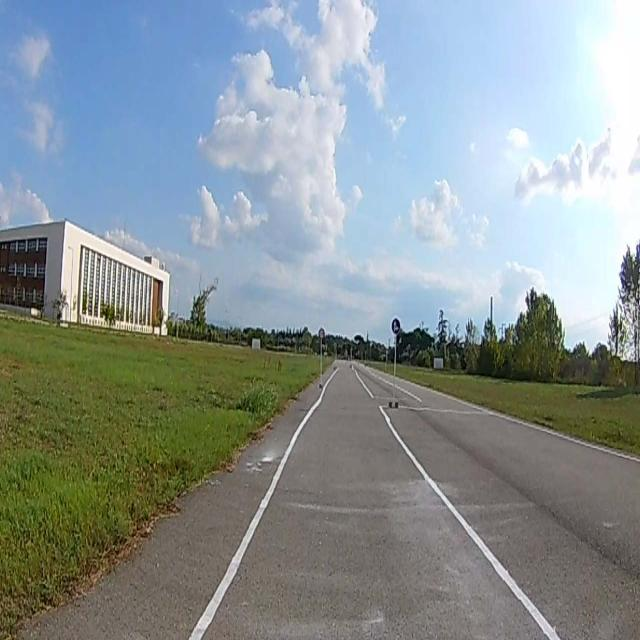ilerisag: (392, 319, 400, 333)
